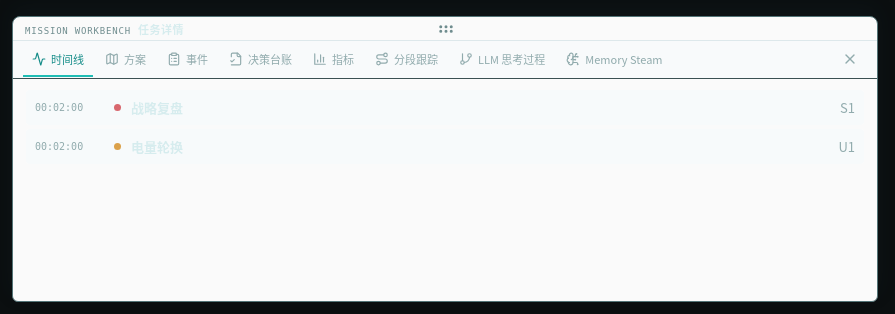
BottomDrawer adaptive events › opens the regional tracking tab for frames without regional data
The width and height of the screenshot is (895, 314).
Click the tab "分段跟踪".
click(406, 60)  # box top-left (366, 42), bottom-right (447, 76)
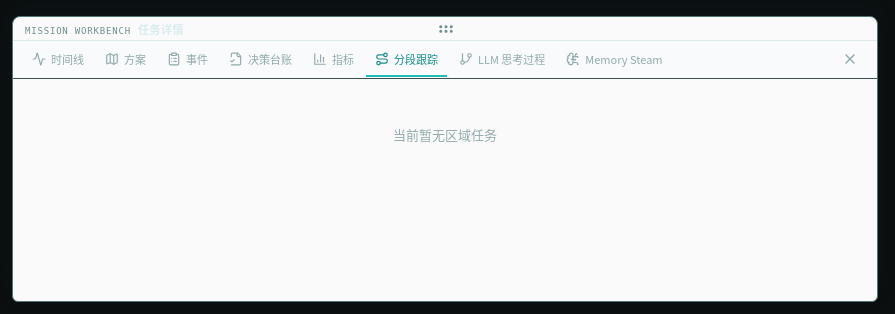
Now the text "当前暂无区域任务" is shown, box top-left (393, 125), bottom-right (497, 144)
